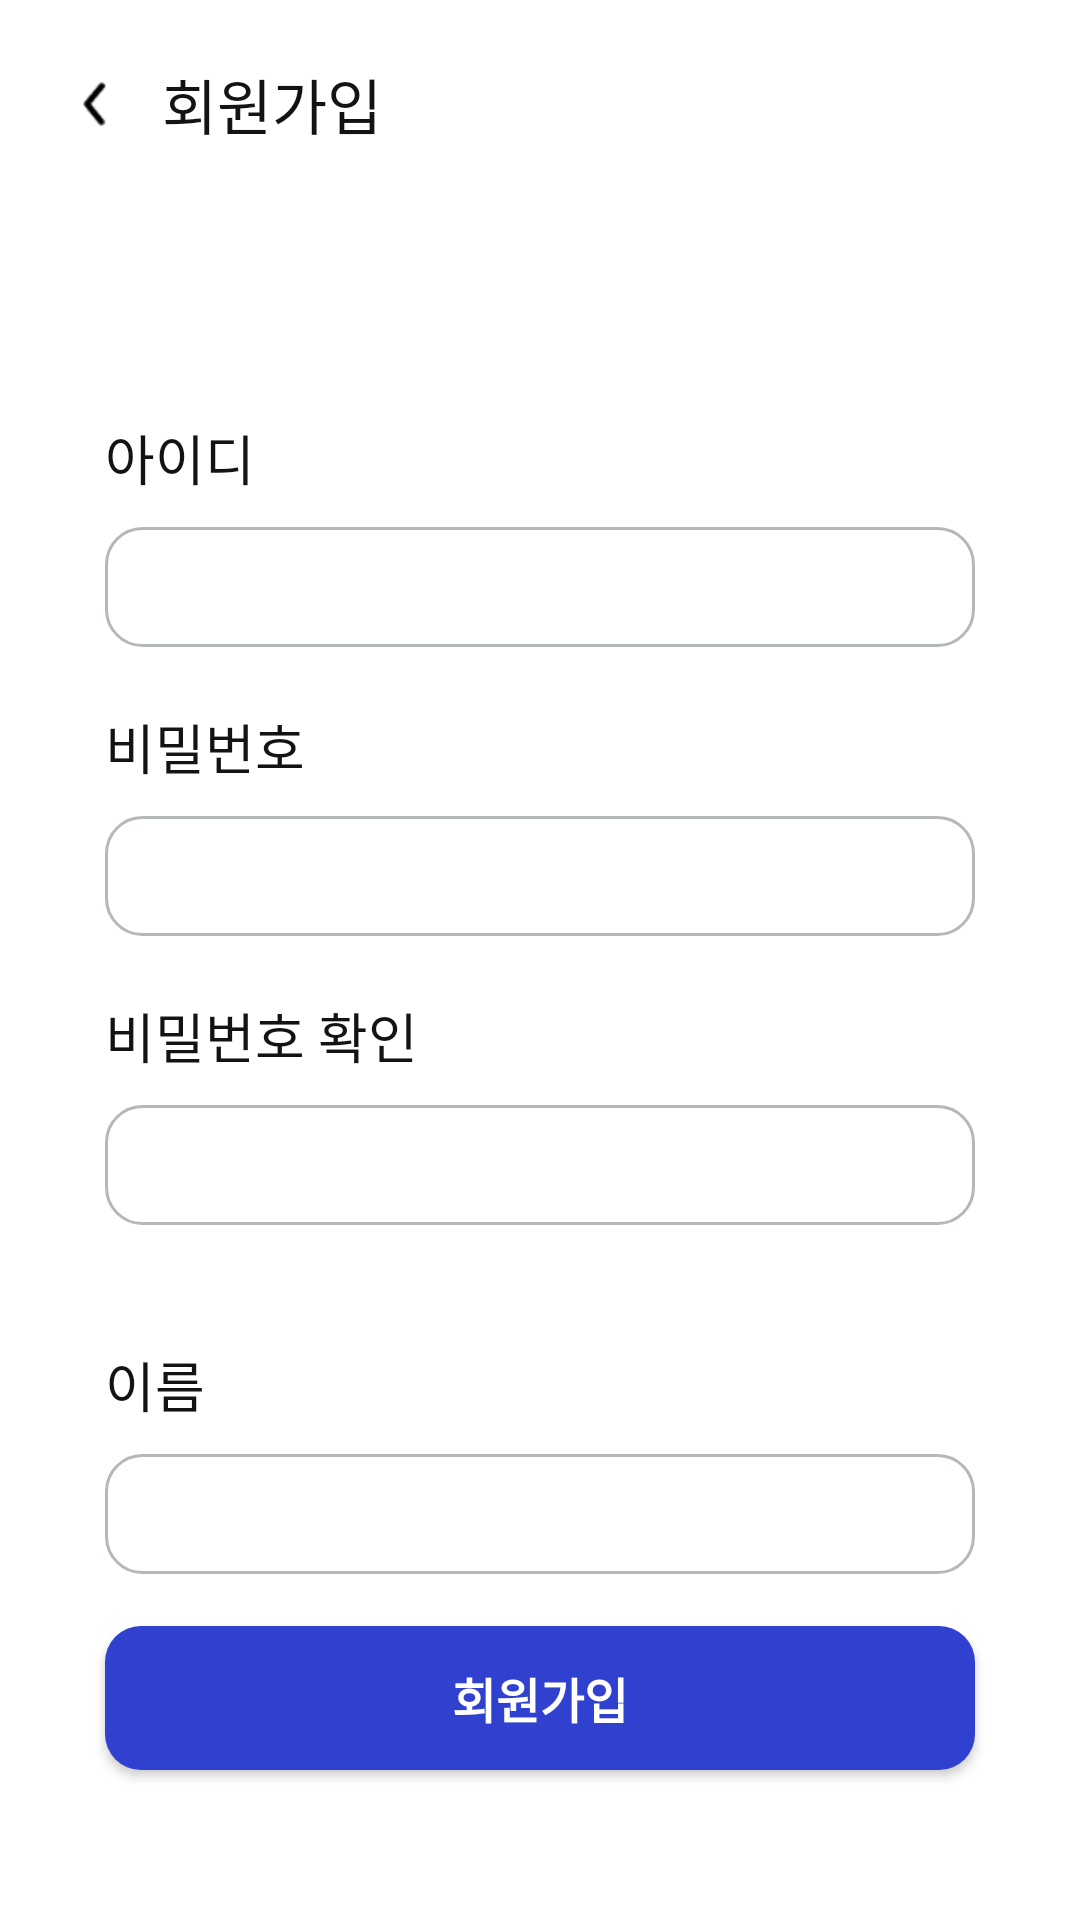

Where to tap for icons on this 1080px x 1920px app screen, as point (x, y):
arrow: point (94, 104)
